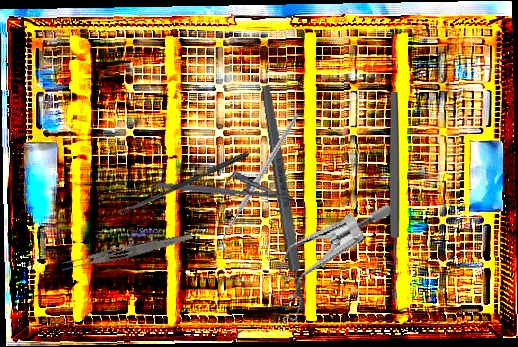Dressing Forceps: (59, 227, 194, 275)
Hook Surgical: (172, 112, 343, 264)
Needle Holder: (157, 162, 295, 204)
Scalpel Handle: (259, 84, 309, 312)
Speculum: (258, 175, 395, 346)
Surgical Spoon: (118, 150, 250, 216), (388, 92, 400, 299)
